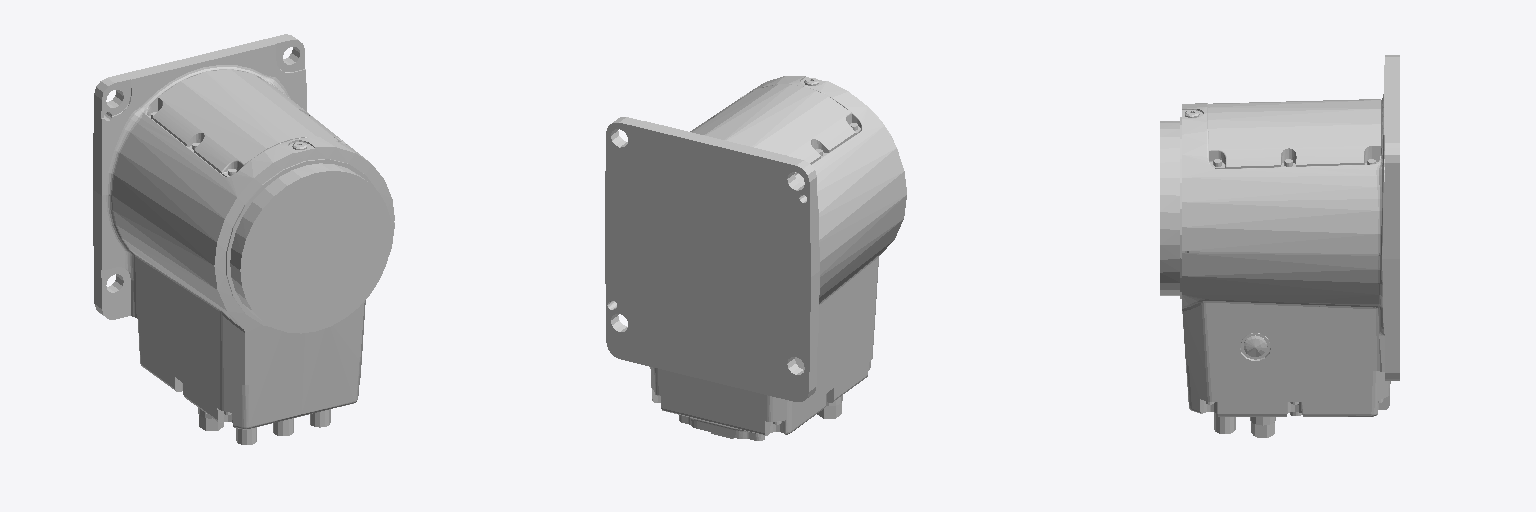
File: RobotBase_Model.obj
The picture shows the model from 3 angles: view 1: azimuth 30°, elevation 25°; view 2: azimuth 150°, elevation 25°; view 3: azimuth 270°, elevation 25°; orthographic projection.
Size of the model in its own units: 158 by 228 by 160.